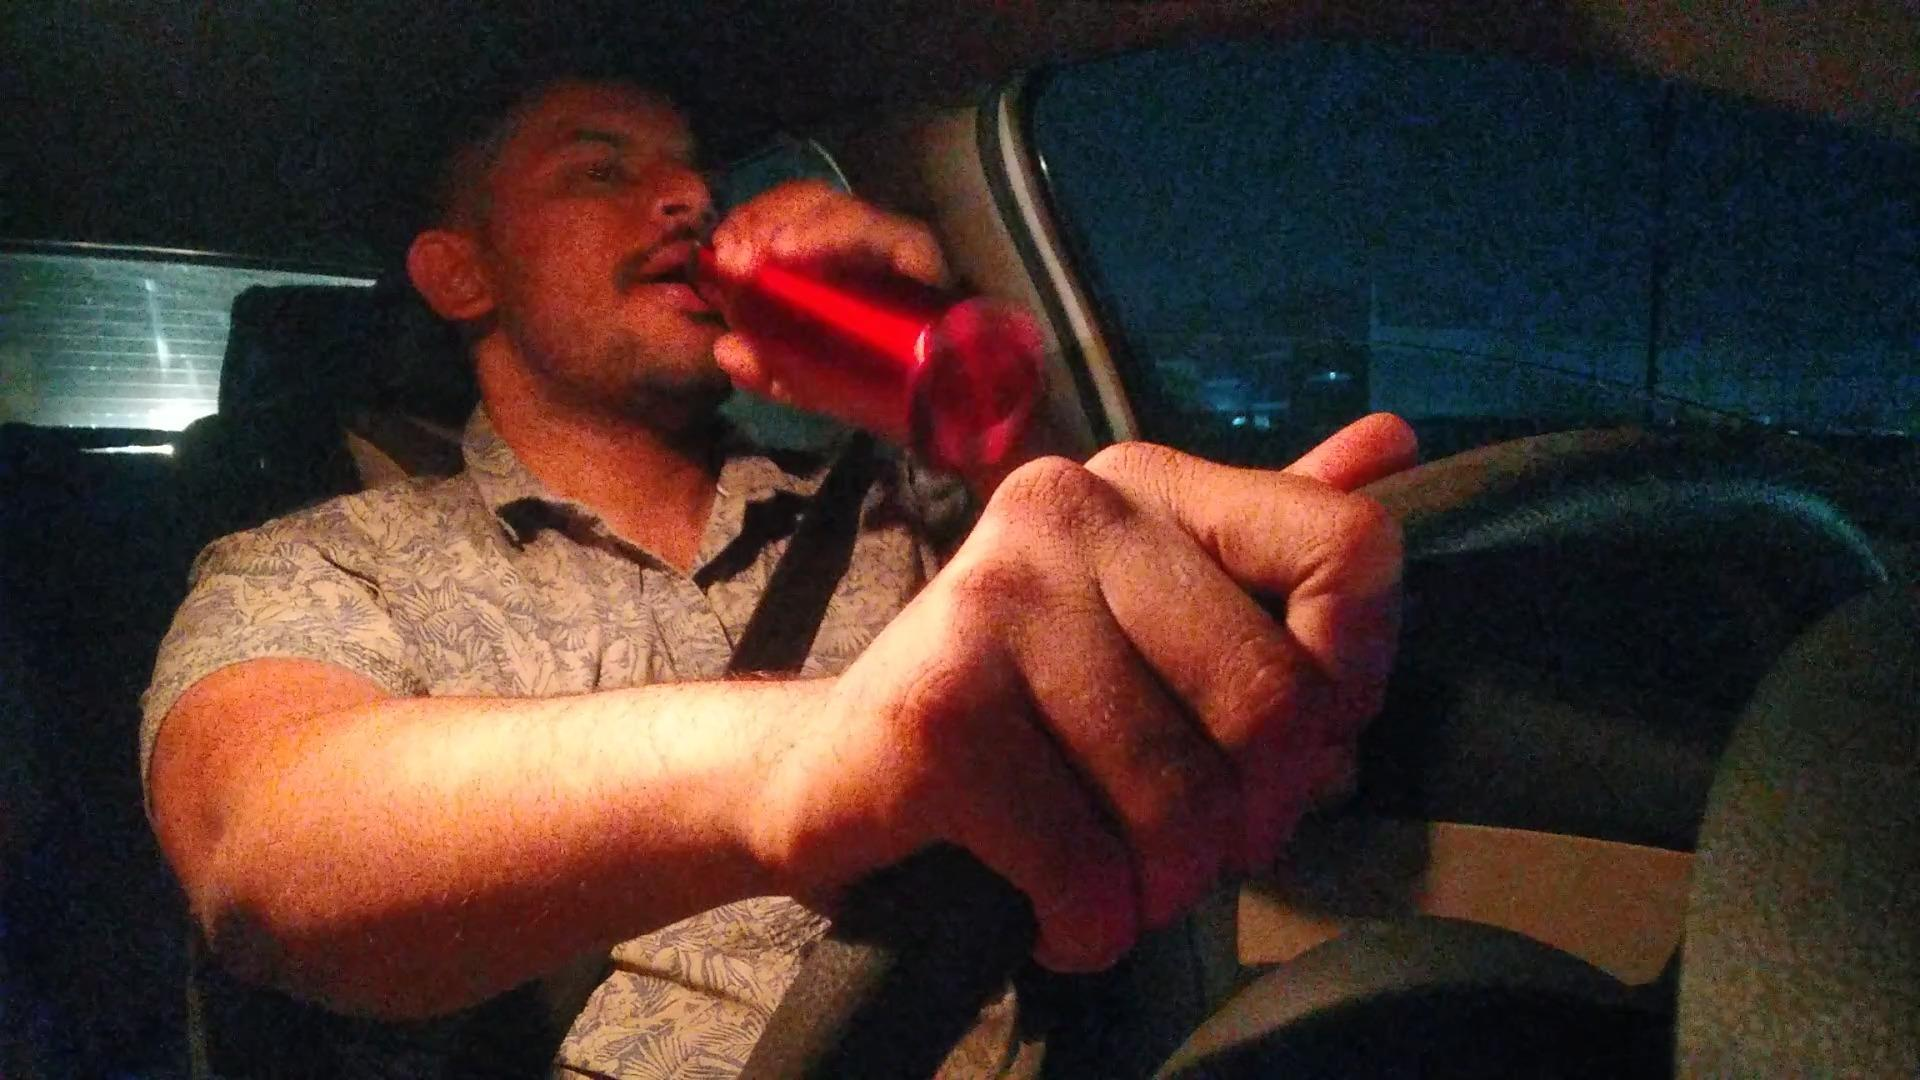Drinking: (695, 185, 1044, 480)
